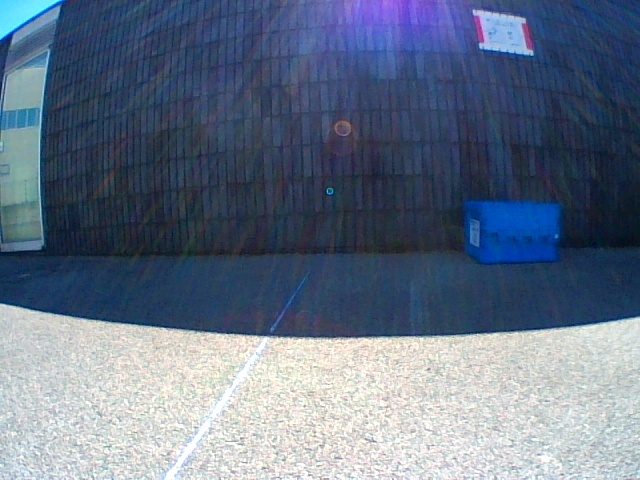blue_box: (465, 200, 560, 263)
tag: (470, 221, 478, 246)
